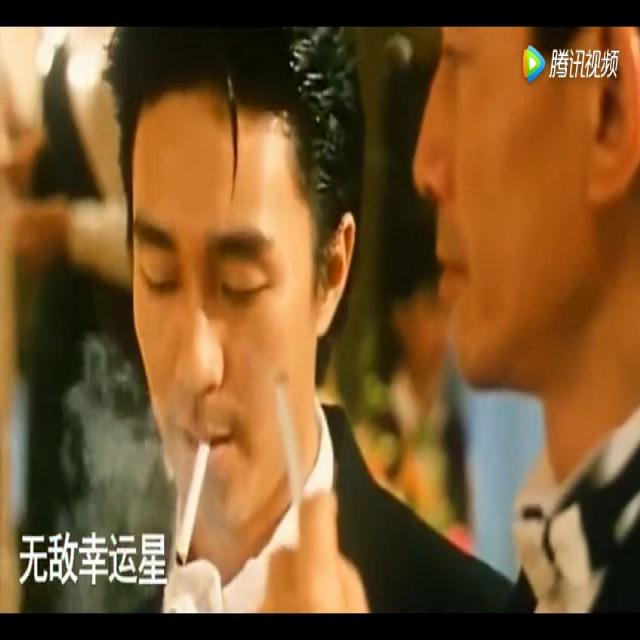smoking: (272, 369, 304, 520), (175, 440, 210, 569)
